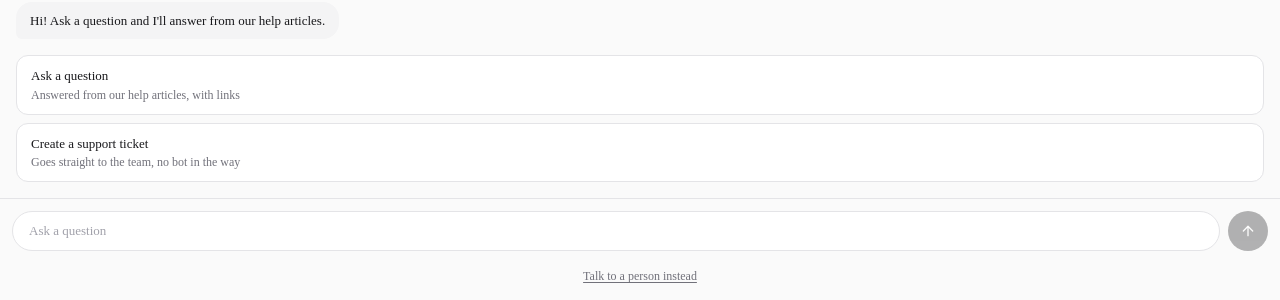
Scenario: Ask escalation offer › offers to escalate when the model refuses to answer
Type "How do refunds work?" into the field with placeholder "Ask a question" at (616, 231), box [12,211,1220,251]
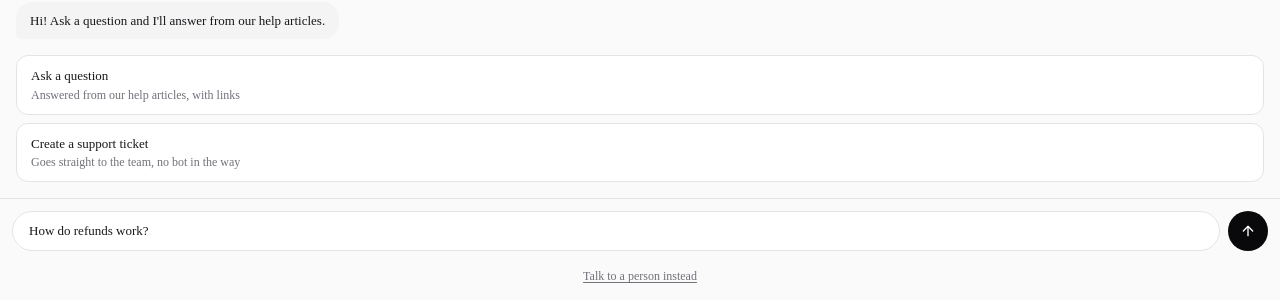
Click the button named "Ask" at (1248, 231), box [1228,211,1268,251]
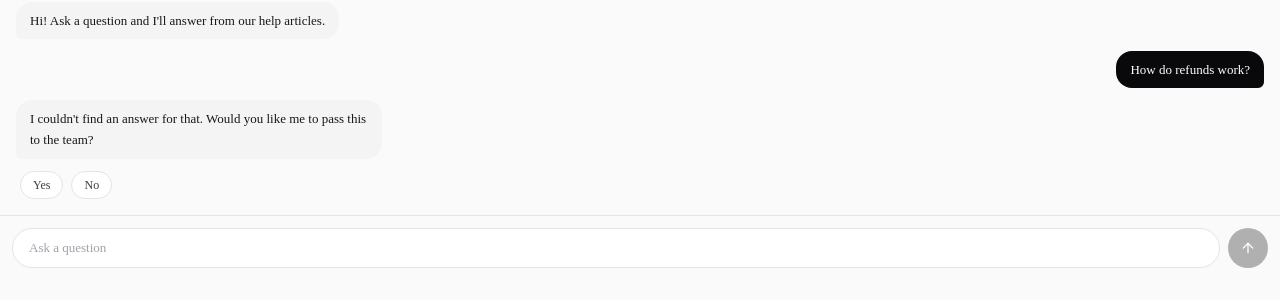
Expected: the button "No" is shown, [72,170,112,198]
Result: the text "couldn't find an answer" is shown at [30,111,369,147]
Result: the button "Yes" is shown at [20,170,64,198]
